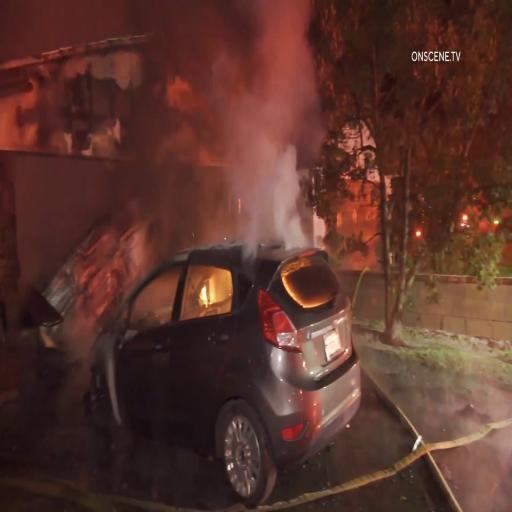smoke: (237, 7, 309, 245)
